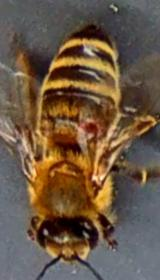varroa_mite: (75, 109, 102, 151)
